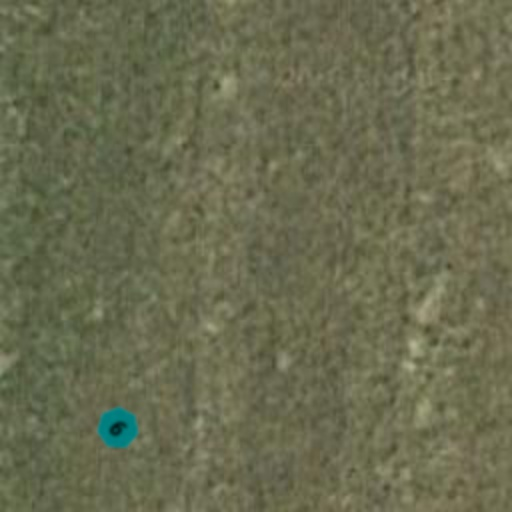heptagon: (86, 396, 150, 460)
